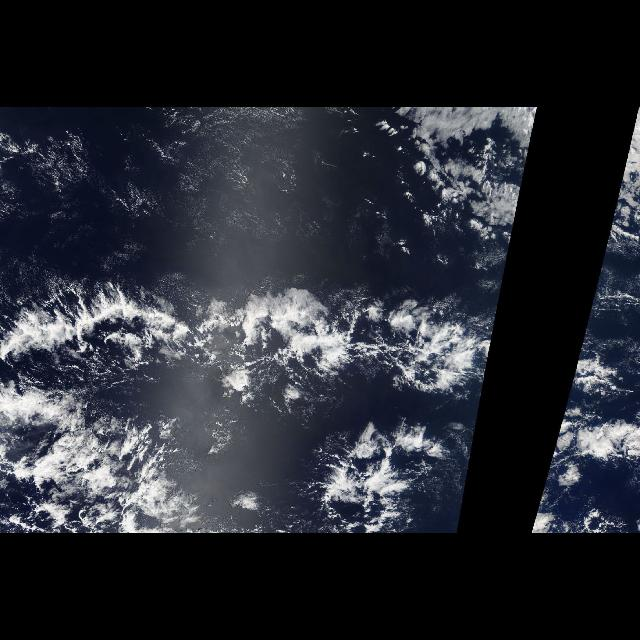Fish: (3, 224, 514, 530)
Sugar: (28, 112, 306, 235)
